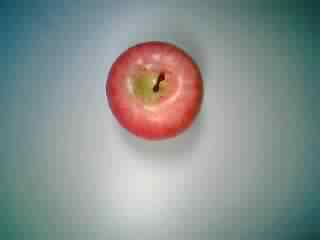apple: (102, 38, 207, 140)
